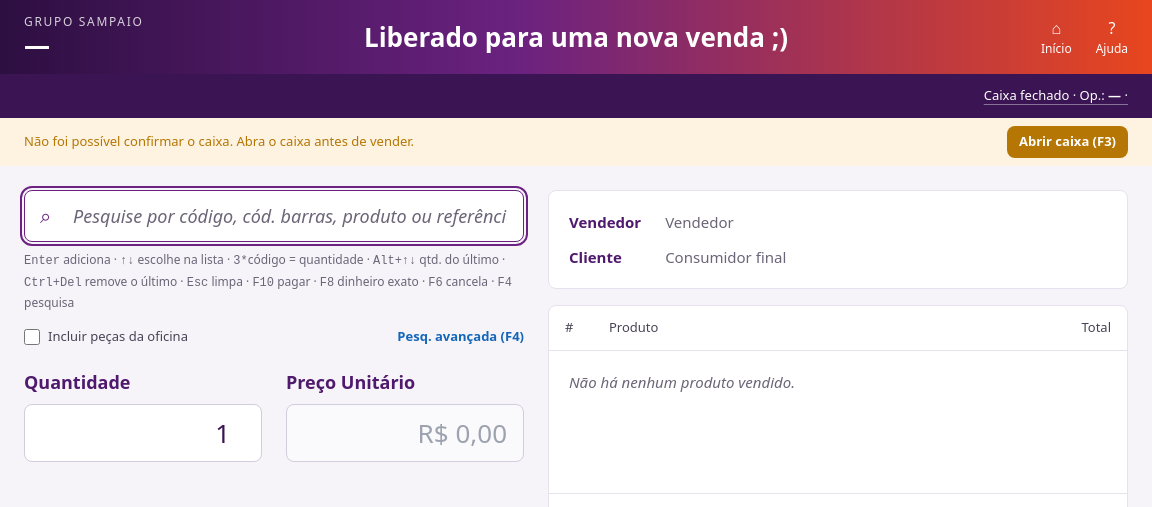
Test case: bipar uma PEÇA não enche o carrinho sozinho › VENDER continua permitido — recusar empurraria o cadastro duplicado
Type "7890000000024" into the field labelled "Pesquise por código, cód. barras, produto ou referência" at (274, 216), box top-left (24, 190), bottom-right (524, 242)
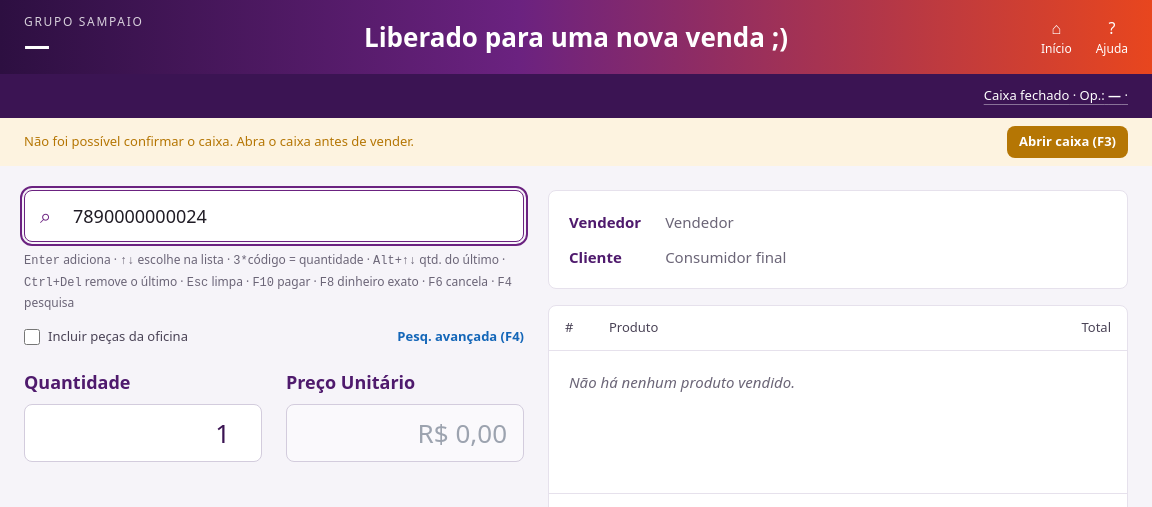
Press Enter in the field named "Pesquise por código", box top-left (24, 190), bottom-right (524, 242)
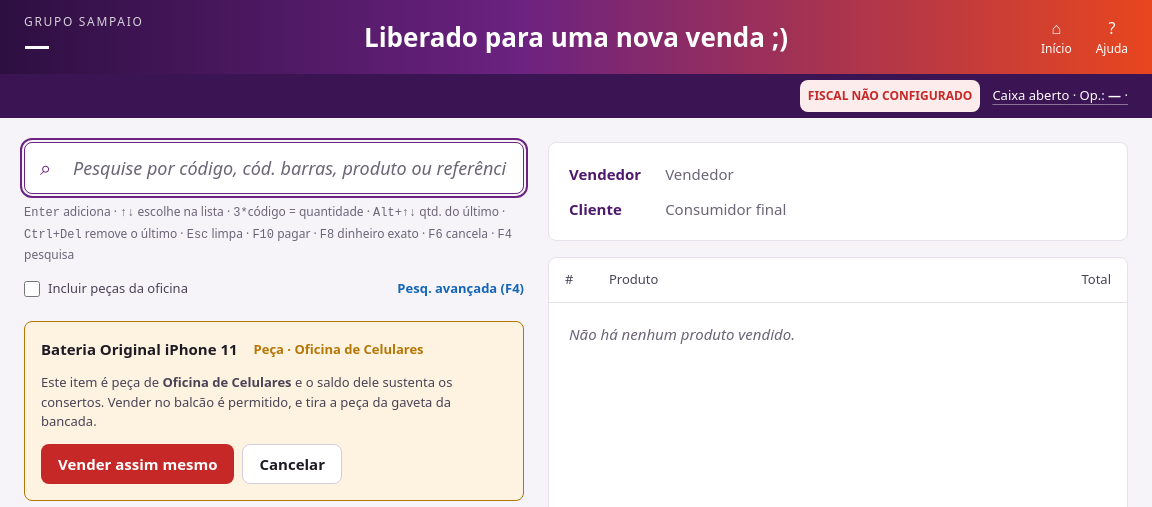
Click the button "Vender assim mesmo" at (138, 464), box top-left (41, 444), bottom-right (234, 484)
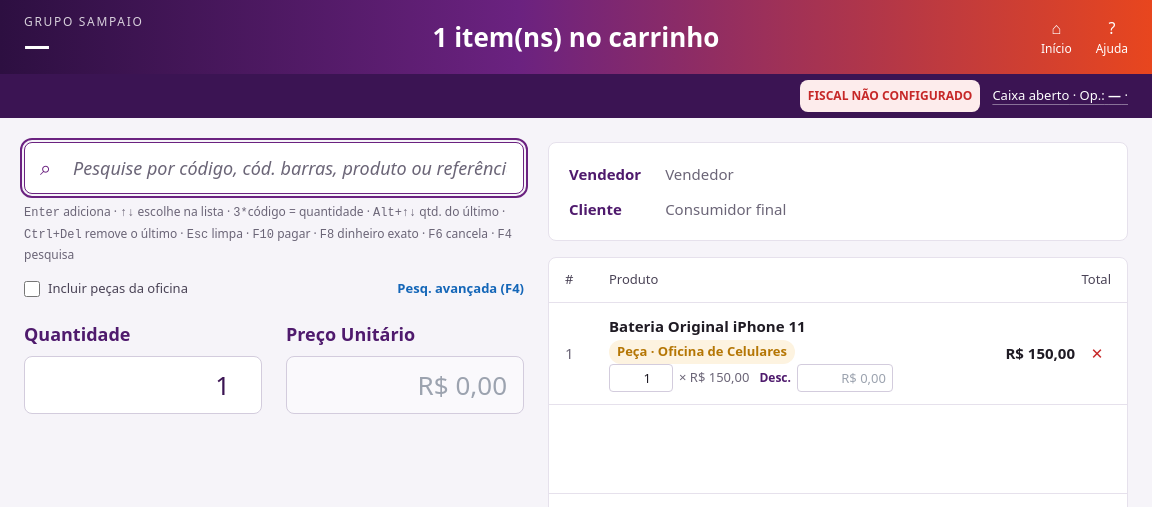
Check: the text "Peça · Oficina de Celulares" is shown, box top-left (609, 340), bottom-right (795, 364)
Check: the number of buttons named "Remover " is 1, box top-left (1083, 337), bottom-right (1111, 369)
